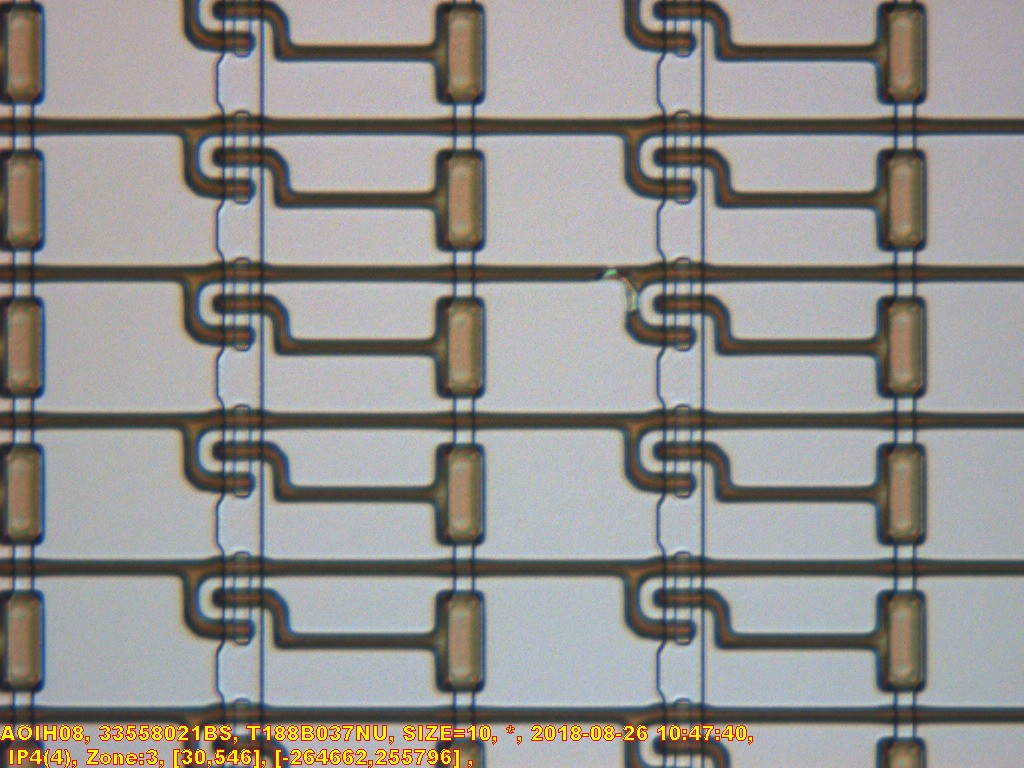good: (177, 108, 296, 212), (618, 108, 737, 212), (176, 255, 295, 359), (176, 402, 295, 506), (618, 402, 737, 506), (176, 549, 295, 653), (618, 549, 737, 653)
ng: (600, 247, 737, 359)
